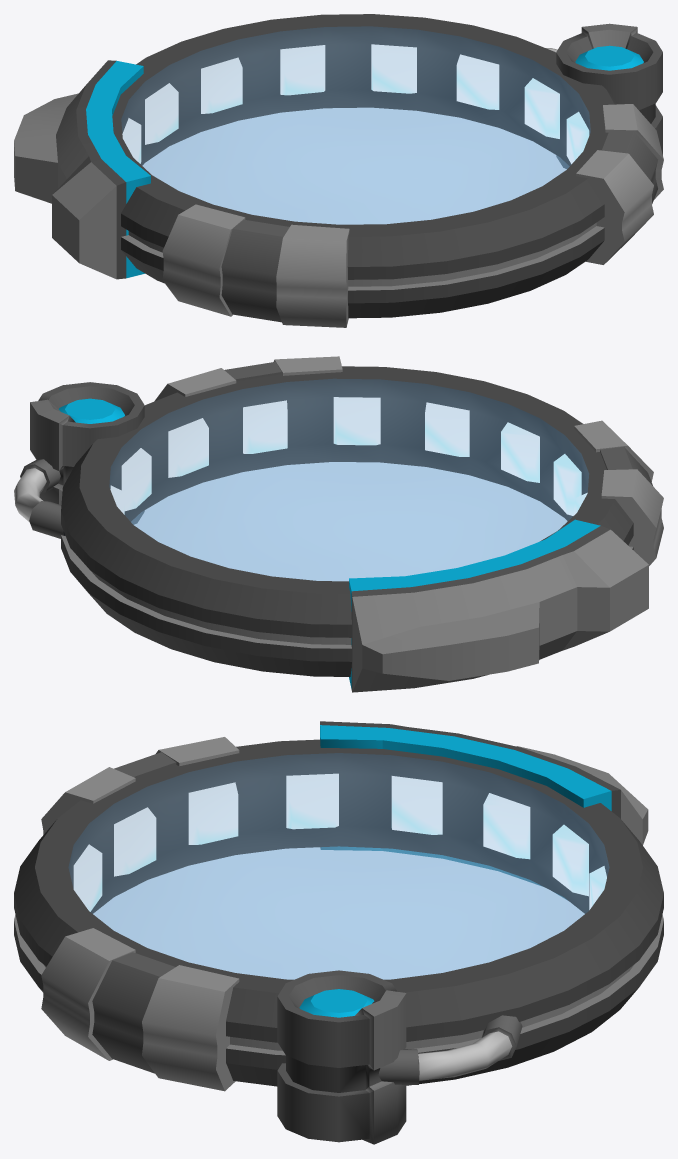
Rendered from FloorPortal.fbx.
The picture shows the model from 3 angles, top to bottom: view 1: azimuth 30°, elevation 25°; view 2: azimuth 150°, elevation 25°; view 3: azimuth 270°, elevation 25°; orthographic projection. The views are drawn at different scales.
Visible parts, largest first — view 1: Portal; view 2: Portal; view 3: Portal.
Part boxes in pixels (left/top/right/bottom): Portal: left=14, top=14, right=663, bottom=327; Portal: left=14, top=356, right=663, bottom=692; Portal: left=14, top=721, right=663, bottom=1144.
Size of the model in its own units: 1507 by 377 by 1261.
